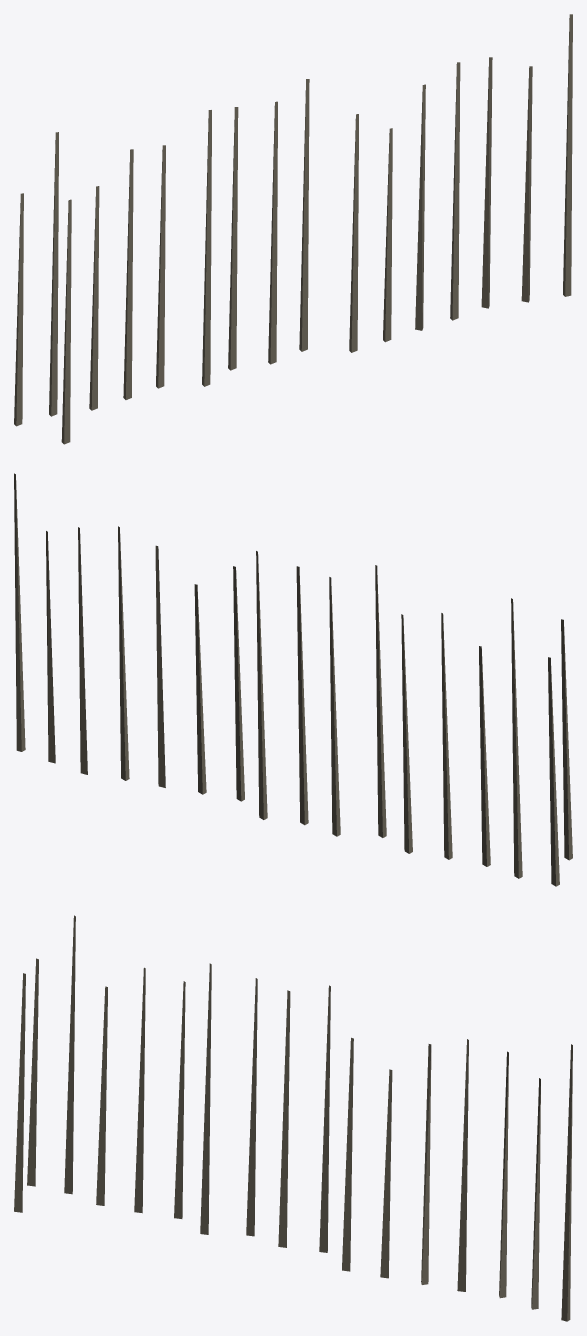
File: xiyuan-vegetation-23-medium.glb
The picture shows the model from 3 angles, top to bottom: view 1: azimuth 30°, elevation 25°; view 2: azimuth 150°, elevation 25°; view 3: azimuth 330°, elevation 25°; orthographic projection.
Parts seen in each view (by area): view 1: vegetation cedar trunk; view 2: vegetation cedar trunk; view 3: vegetation cedar trunk.
Boxes of the visible parts, x1,y1,x2,y2 form: vegetation cedar trunk: (14,14,572,444); vegetation cedar trunk: (14,473,572,886); vegetation cedar trunk: (14,915,572,1321).
Bounding box in the file's own units: 28.86 × 13.98 × 3.48.
